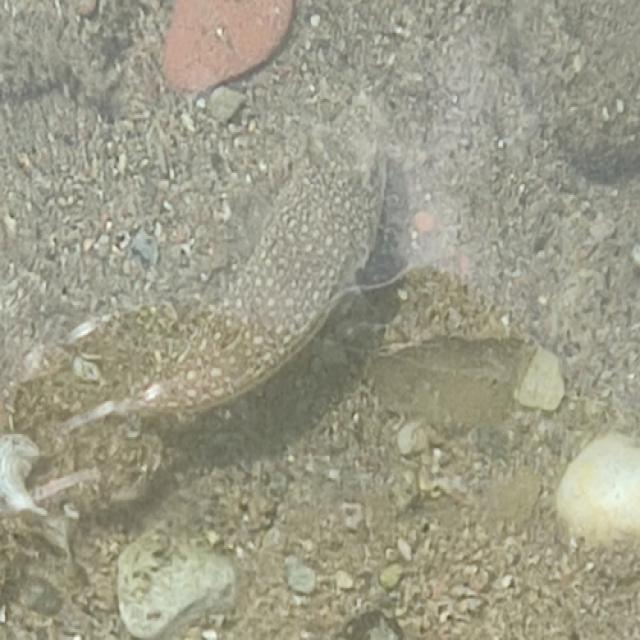Balik: (68, 94, 385, 426)
